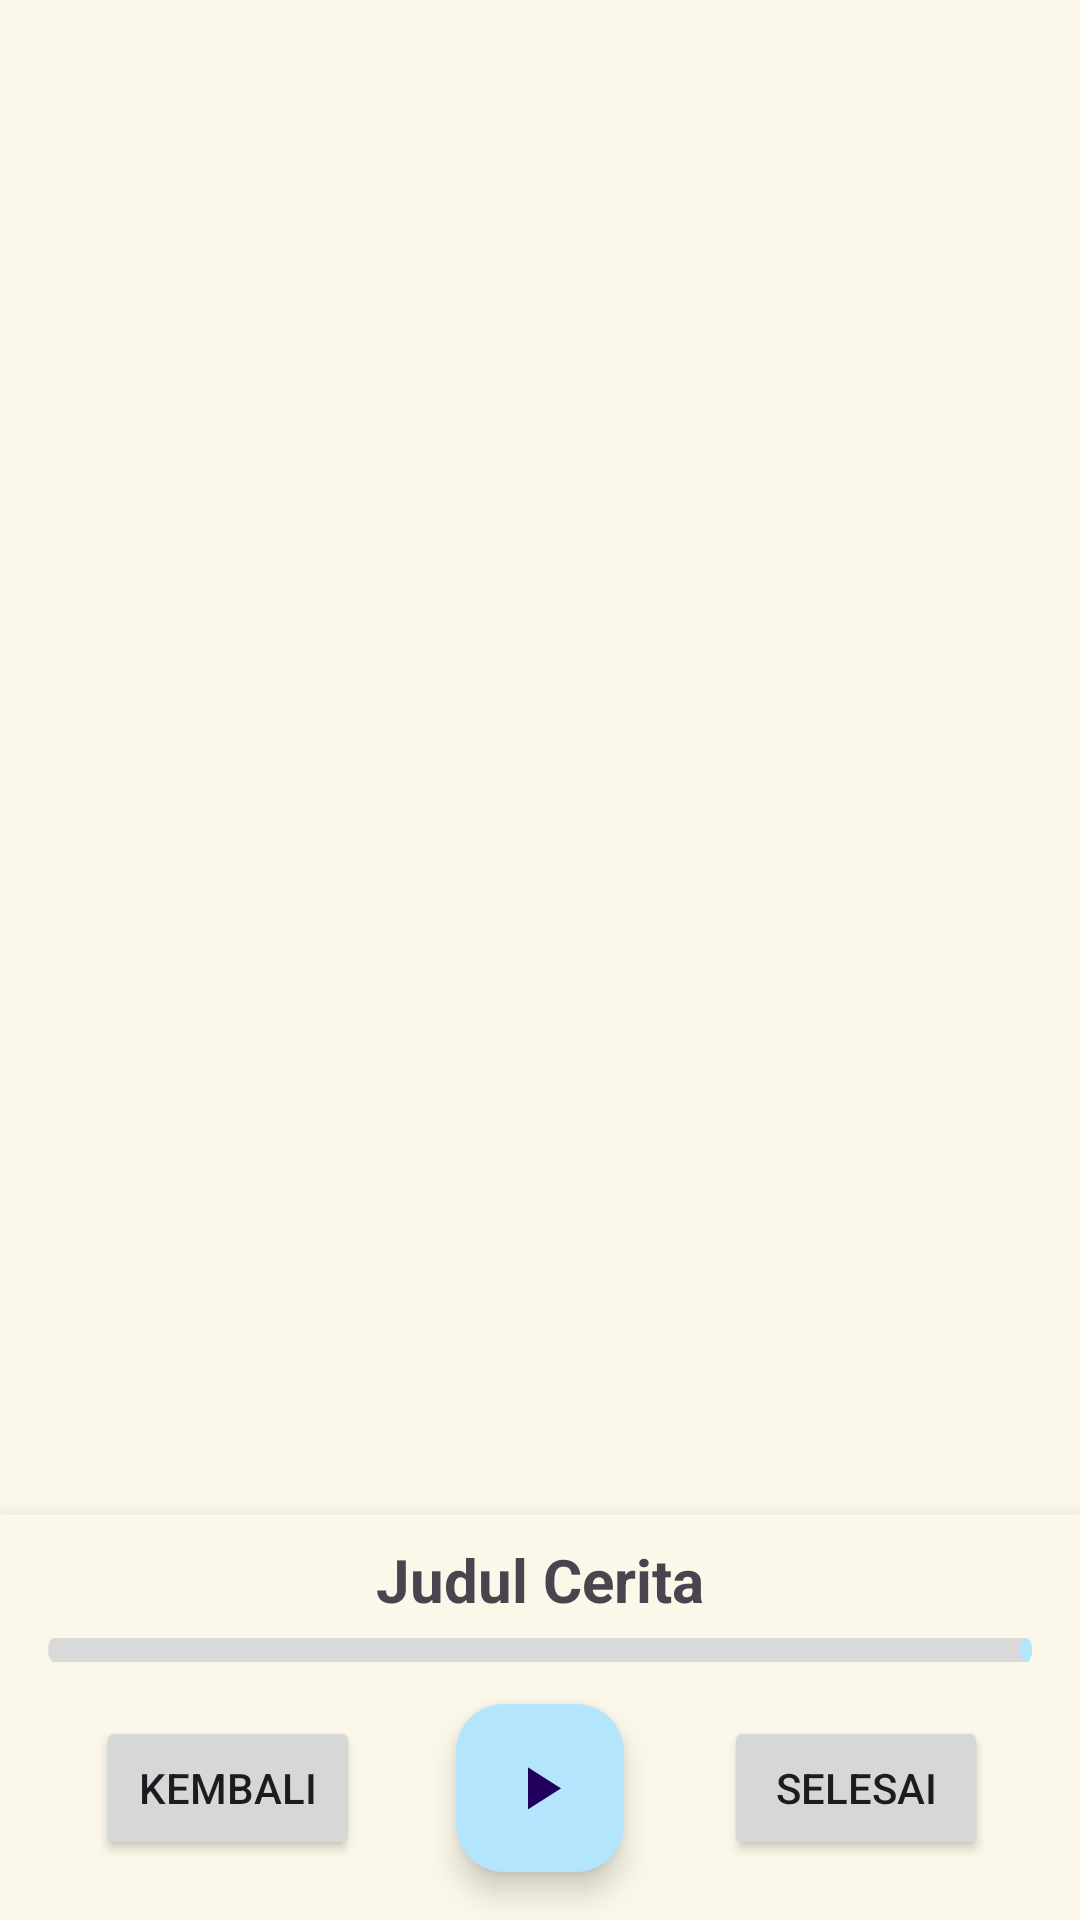

Locate icon controls on the screen. Image size 1080 × 1920, boxes as (x1, y1, x2, y2).
play: (456, 1704, 624, 1872)
